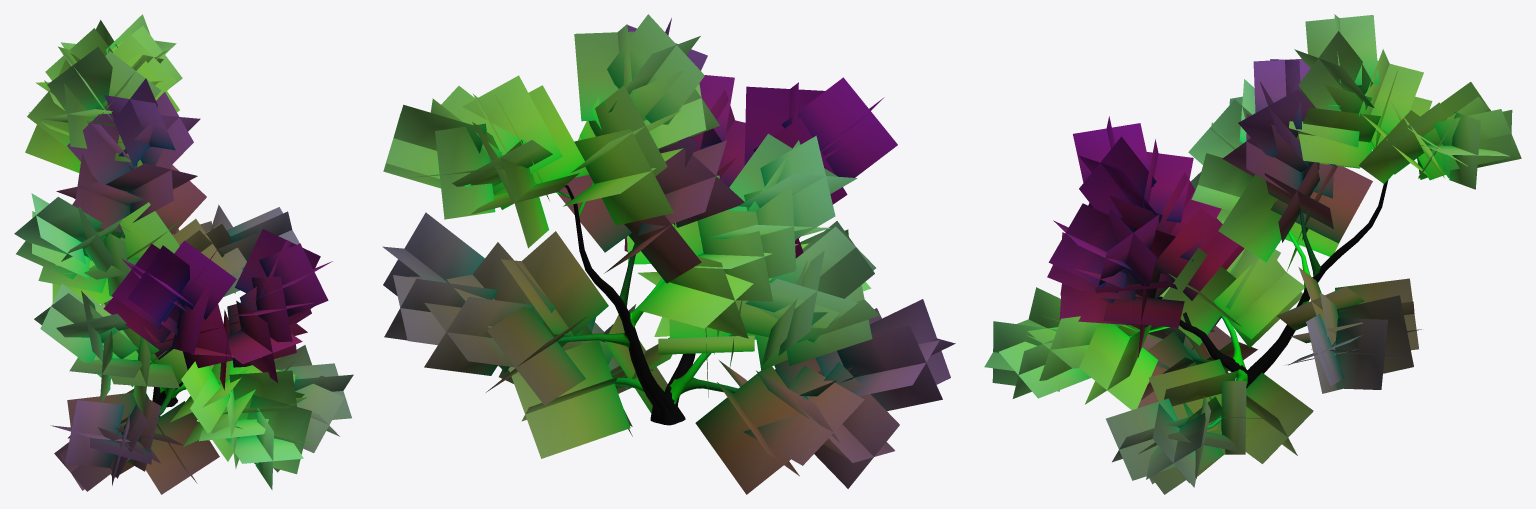
File: URP_P11_Tree_6_LOD_1.fbx
3 renders of one model, left to right at view 1: azimuth 30°, elevation 25°; view 2: azimuth 150°, elevation 25°; view 3: azimuth 270°, elevation 25°, orthographic. The views are drawn at different scales.
Visible parts, largest first — view 1: Tree_6_LOD_1; view 2: Tree_6_LOD_1; view 3: Tree_6_LOD_1.
Part boxes in pixels (x1,y1,x2,y2): Tree_6_LOD_1: (14,14,353,494); Tree_6_LOD_1: (382,14,955,494); Tree_6_LOD_1: (984,14,1521,494).
Size of the model in its own units: 590 by 681 by 789.
